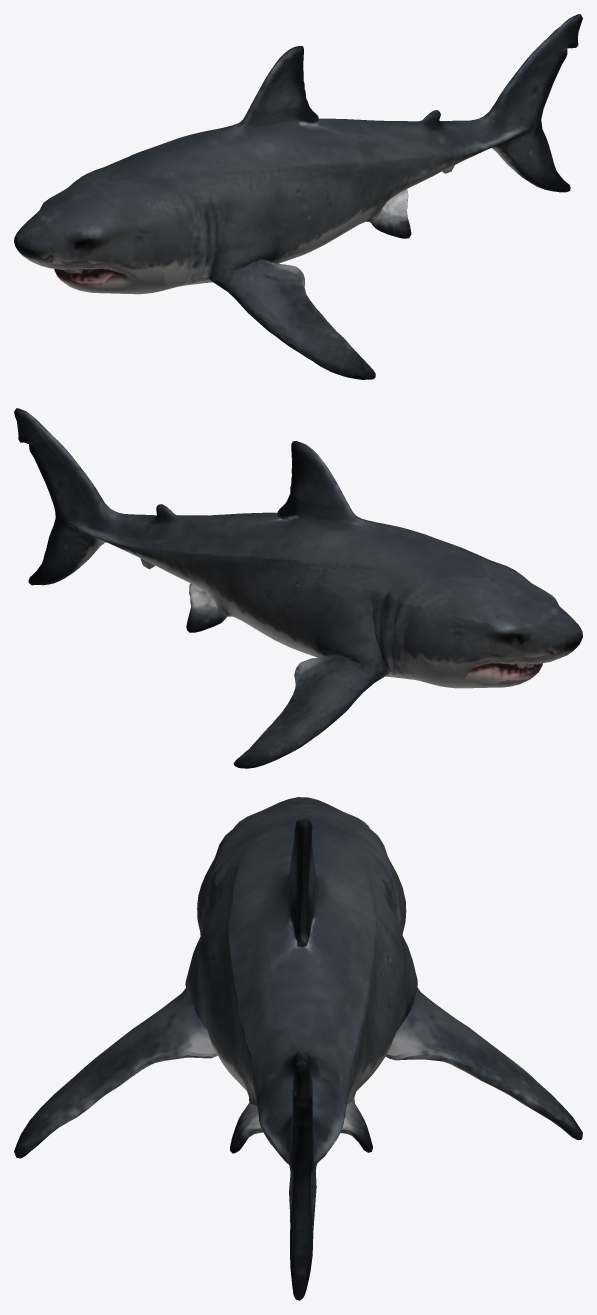
The picture shows the model from 3 angles, top to bottom: view 1: azimuth 30°, elevation 25°; view 2: azimuth 150°, elevation 25°; view 3: azimuth 270°, elevation 25°; orthographic projection. The views are drawn at different scales.
Visible parts, largest first — view 1: geometry_0; view 2: geometry_0; view 3: geometry_0.
Boxes of the visible parts, x1=… form: geometry_0: x1=14, y1=14, x2=582, y2=379; geometry_0: x1=14, y1=408, x2=582, y2=768; geometry_0: x1=14, y1=797, x2=582, y2=1300.
Bounding box in the file's own units: 4.5 × 1.92 × 2.78.
Materials: 1 (1 with a texture image).
